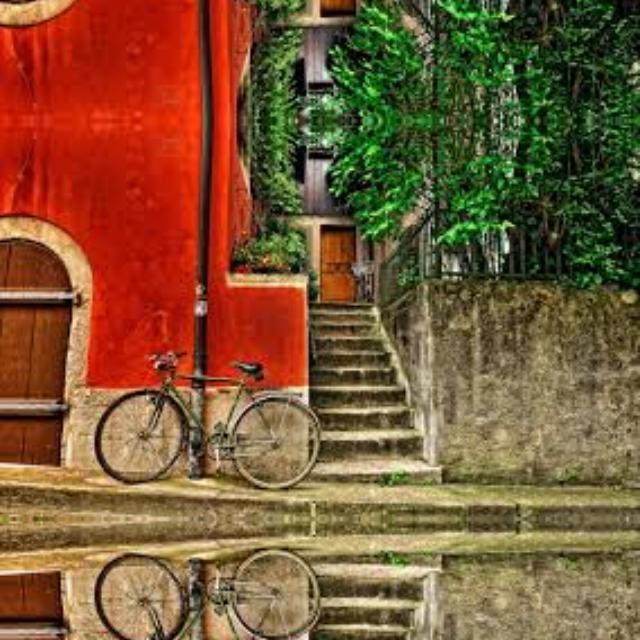obstacle: (76, 327, 328, 496), (76, 542, 327, 640)
